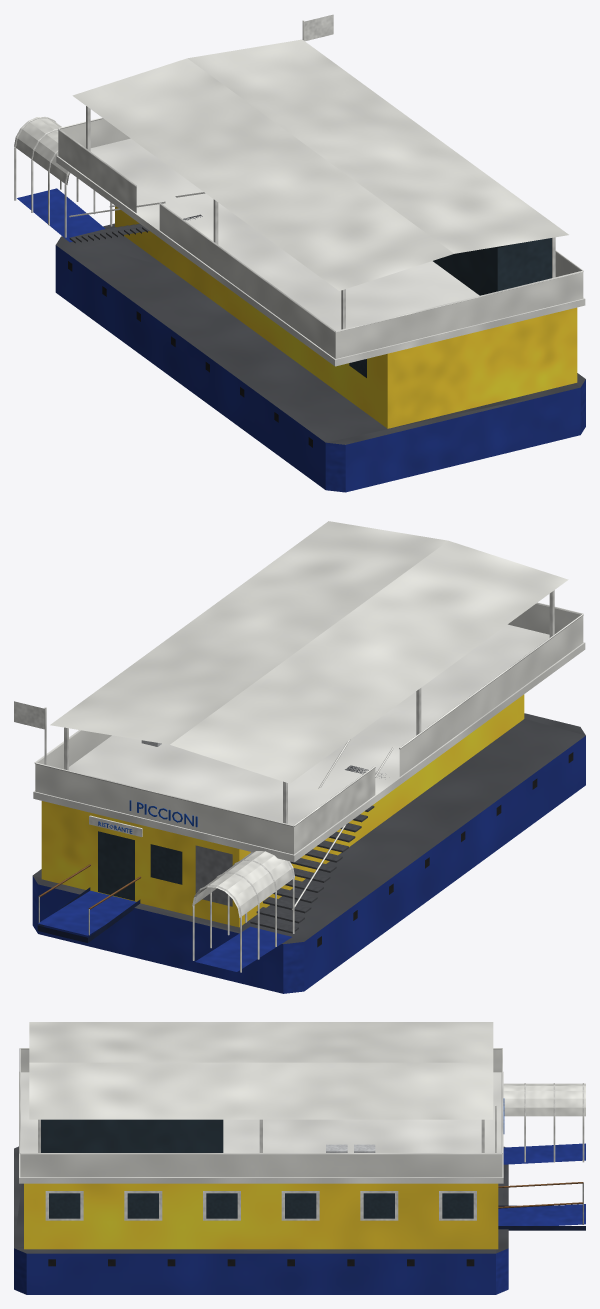
The model's file is SM_MoloItalia_RistorantePiccioni.fbx.
The picture shows the model from 3 angles, top to bottom: view 1: azimuth 30°, elevation 25°; view 2: azimuth 150°, elevation 25°; view 3: azimuth 270°, elevation 25°; orthographic projection. The views are drawn at different scales.
Parts seen in each view (by area): view 1: SM_MoloItalia_RistorantePiccioni; view 2: SM_MoloItalia_RistorantePiccioni; view 3: SM_MoloItalia_RistorantePiccioni.
Part boxes in pixels (x1=…): SM_MoloItalia_RistorantePiccioni: x1=14, y1=14, x2=585, y2=492; SM_MoloItalia_RistorantePiccioni: x1=14, y1=521, x2=585, y2=993; SM_MoloItalia_RistorantePiccioni: x1=14, y1=1022, x2=585, y2=1294.
Size of what is drawn, in the model's own units: 1100 by 2255 by 800.
Materials: 1 (1 with a texture image).
